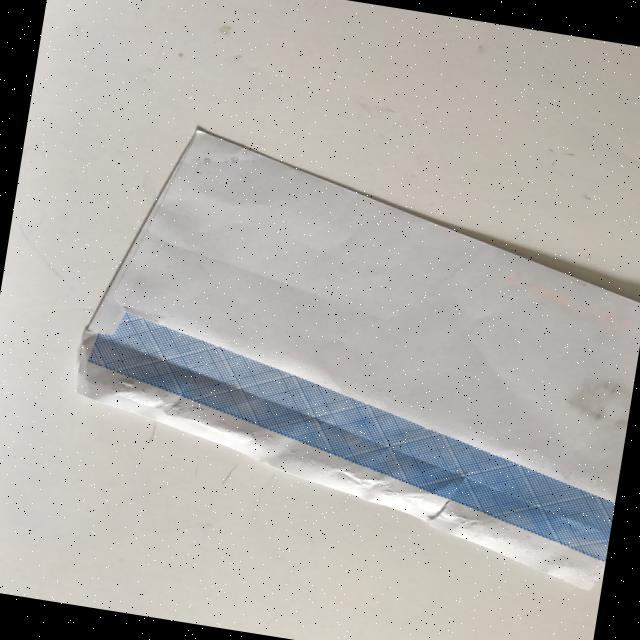paper: (54, 113, 640, 593)
